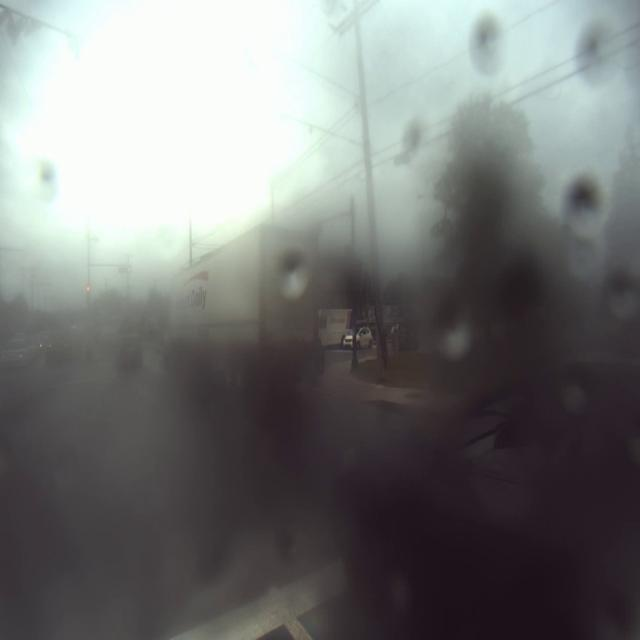car: (111, 327, 146, 369)
